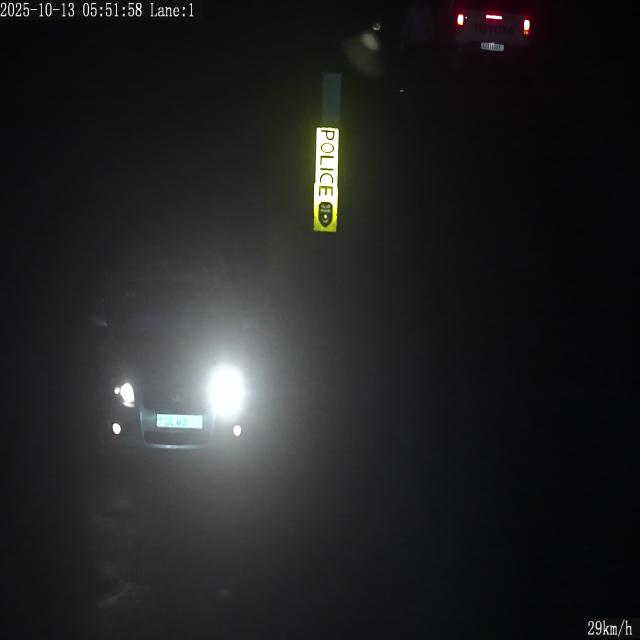BUS: (156, 414, 203, 429), (481, 43, 504, 51)
